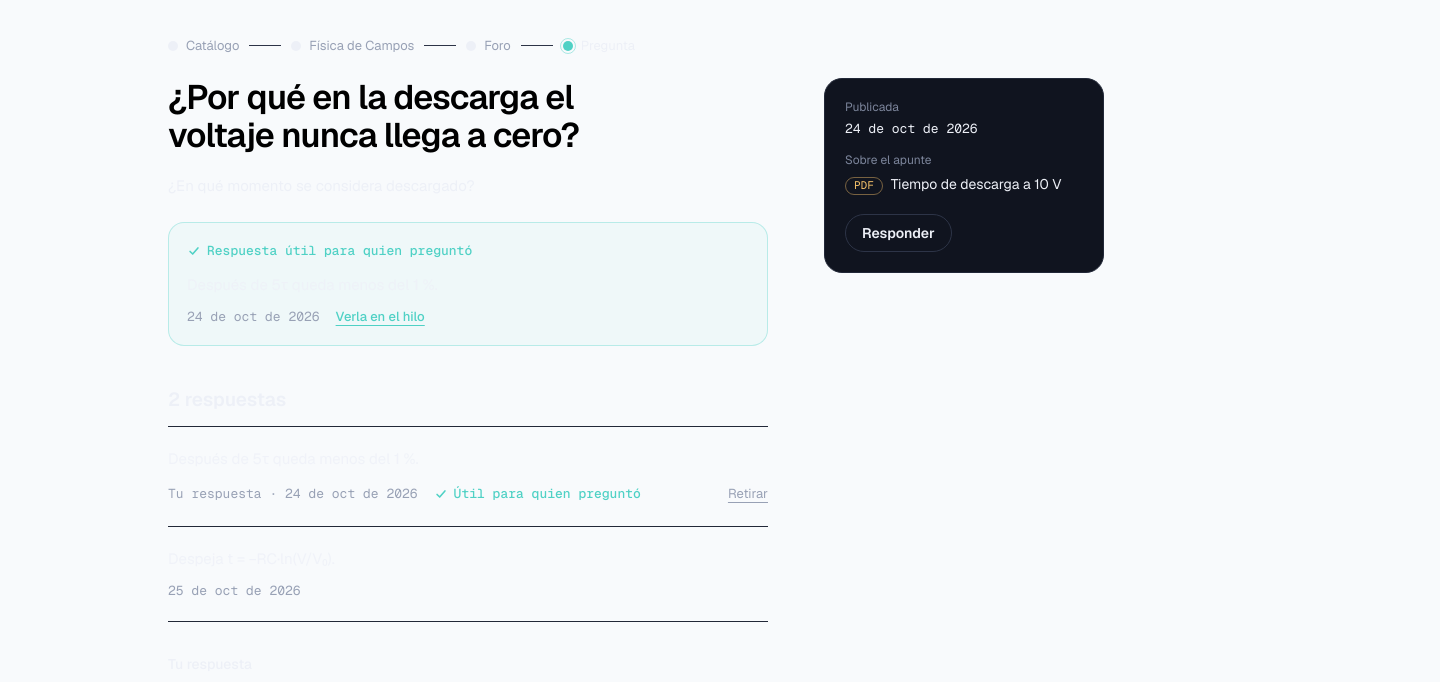
Test case: QuestionPage › retira una respuesta tras confirmarlo: sale del hilo, el foco va al hilo y, si era la útil, se quita
The width and height of the screenshot is (1440, 682).
Expected: the heading "¿Por qué en la descarga el voltaje nunca llega a cero?" is shown, [168,74,579,157]
Click the button "Retirar": [748, 494] box [728,482,768,506]
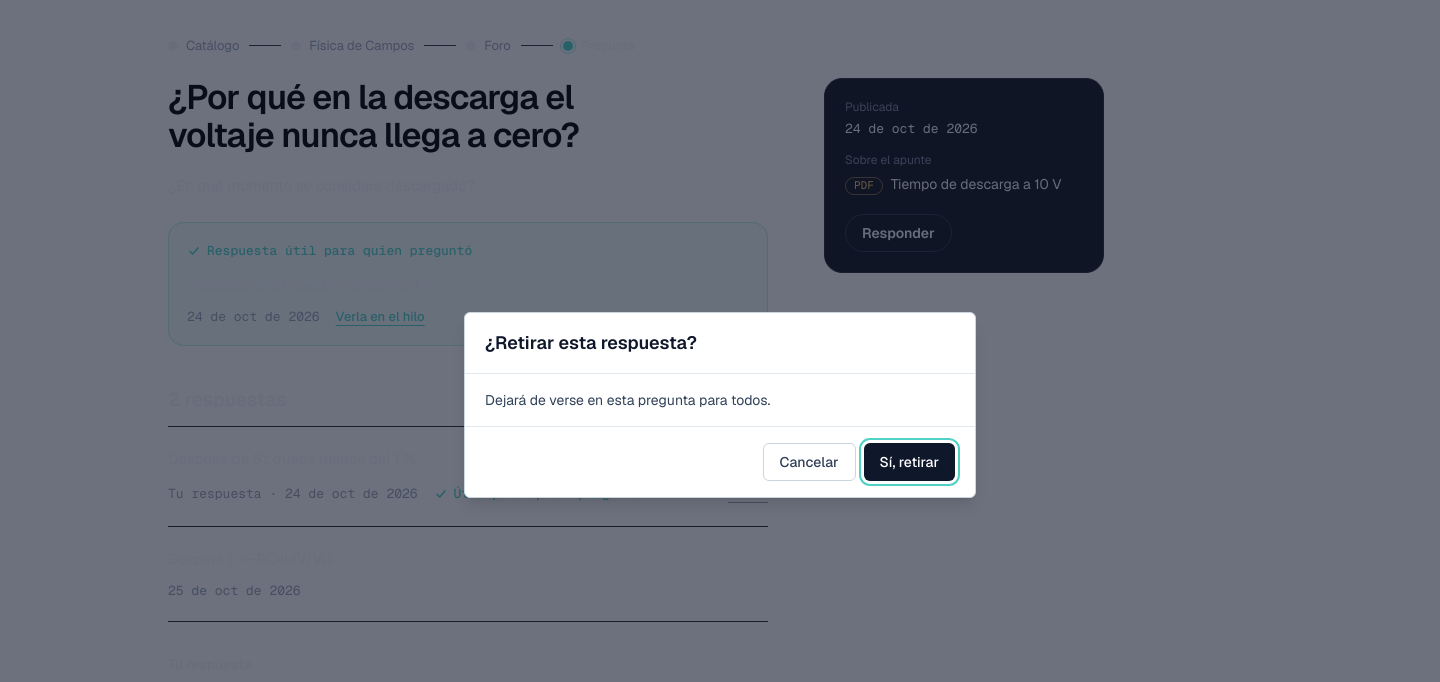
Expected: the dialog "¿Retirar esta respuesta?" is shown, [464,312,976,498]
Click the button "Sí, retirar": [909, 462] box [864,443,955,481]
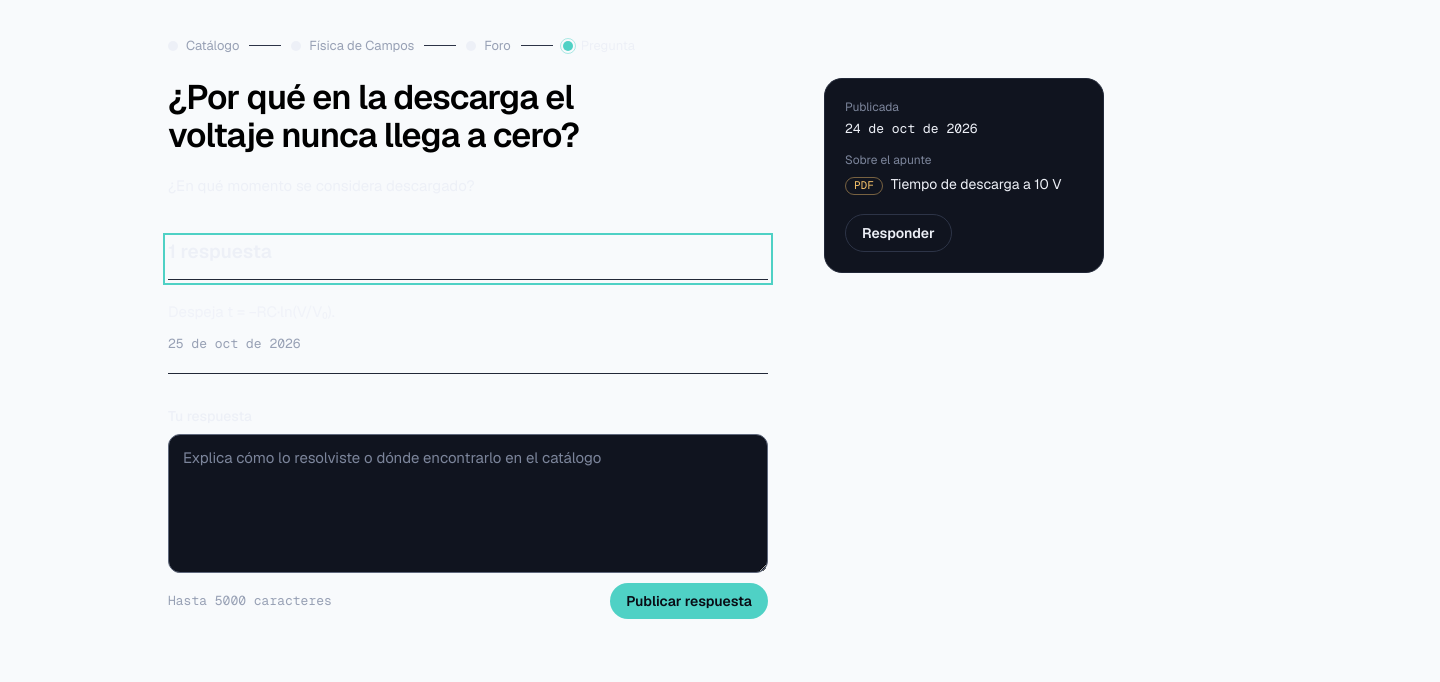
Expected: the heading "1 respuesta" is shown, [168,238,768,280]
Expected: the element "Respuesta útil para quien preguntó" is gone
